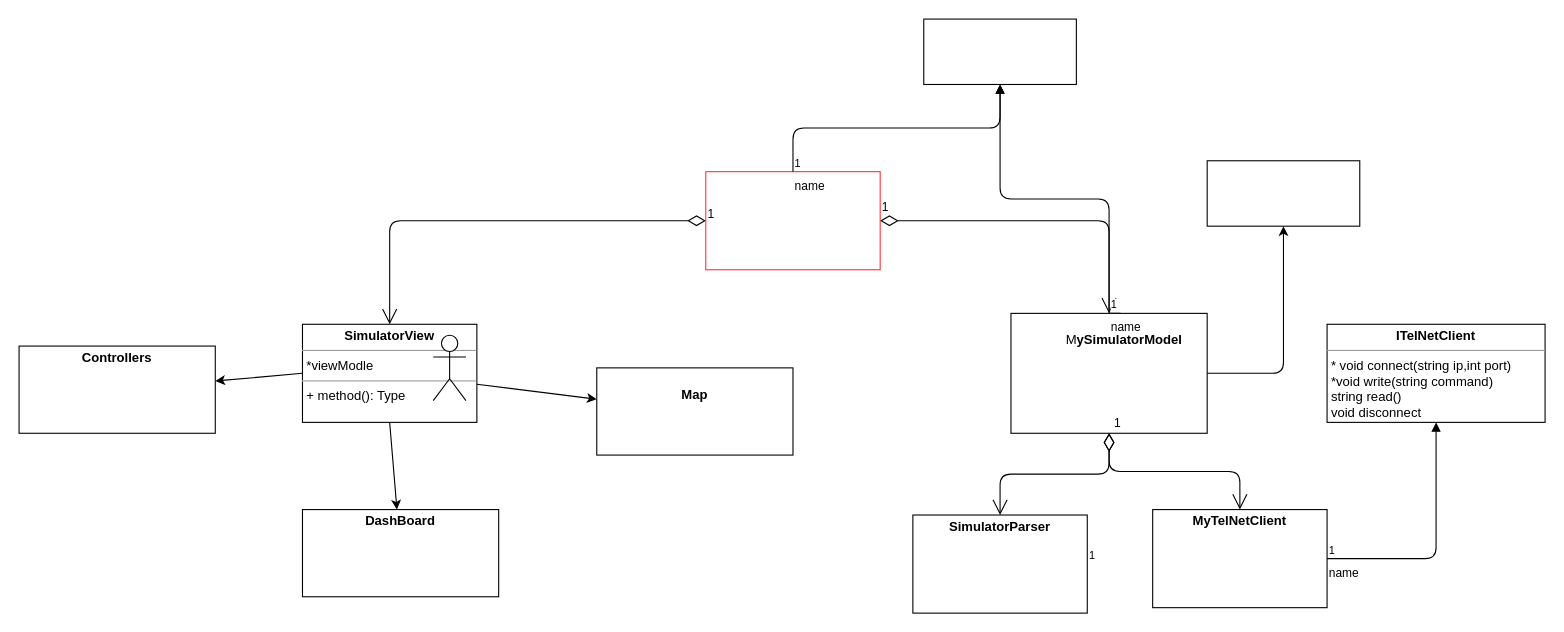
Image size: 1564x632. Some labels were removed from this diagram. The shapes that lost their labels are listed below. From the top down, each one's box as (x1, y1, x2, y2) in pixels, then its label:
(923, 18, 1076, 84): INotifyPropertyChanges
(1206, 160, 1360, 226): SimulatorModle
(705, 171, 880, 270): SimulatorViewModel *Model model
(432, 334, 466, 401): Actor
